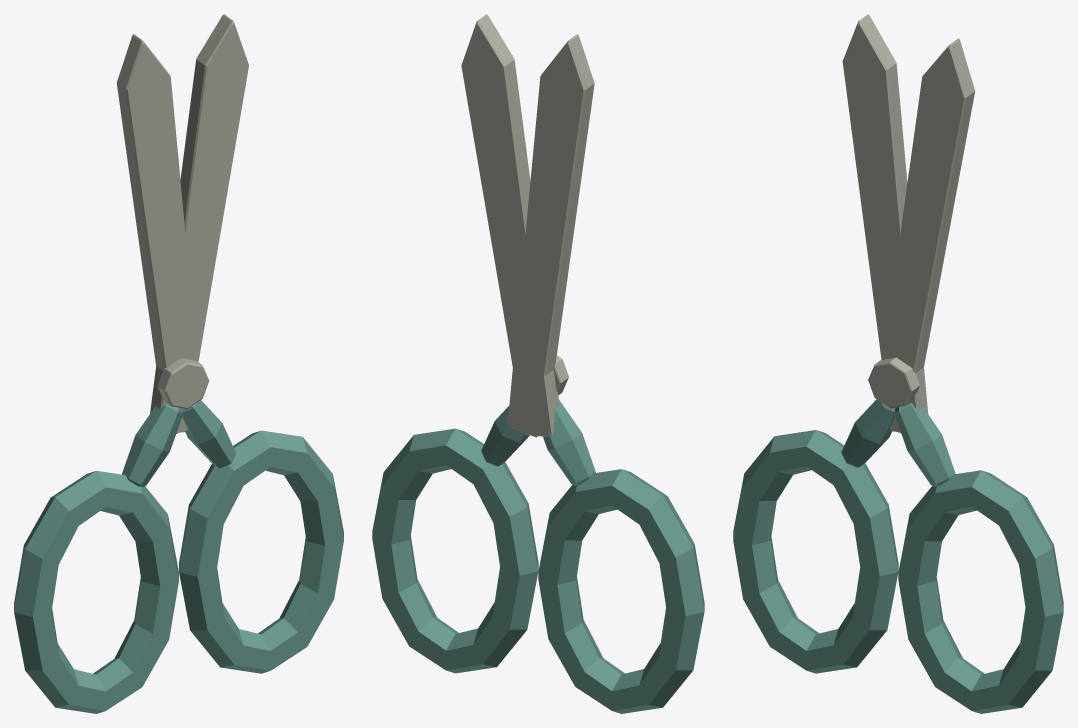
File: scissors.glb
3 views of the same model, side by side, from view 1: azimuth 30°, elevation 25°; view 2: azimuth 150°, elevation 25°; view 3: azimuth 330°, elevation 25° (orthographic).
Visible parts, largest first — view 1: scissors; view 2: scissors; view 3: scissors.
Part boxes in pixels (bbox=[...]): scissors: bbox=[14, 14, 343, 713]; scissors: bbox=[372, 14, 704, 713]; scissors: bbox=[733, 14, 1063, 713].
Bounding box in the file's own units: 0.088 × 0.1691 × 0.00922.
